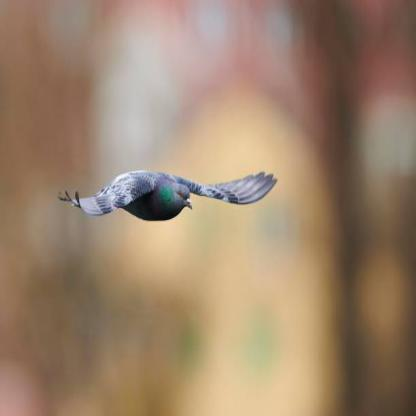Rock Pigeon: (63, 161, 283, 224)
